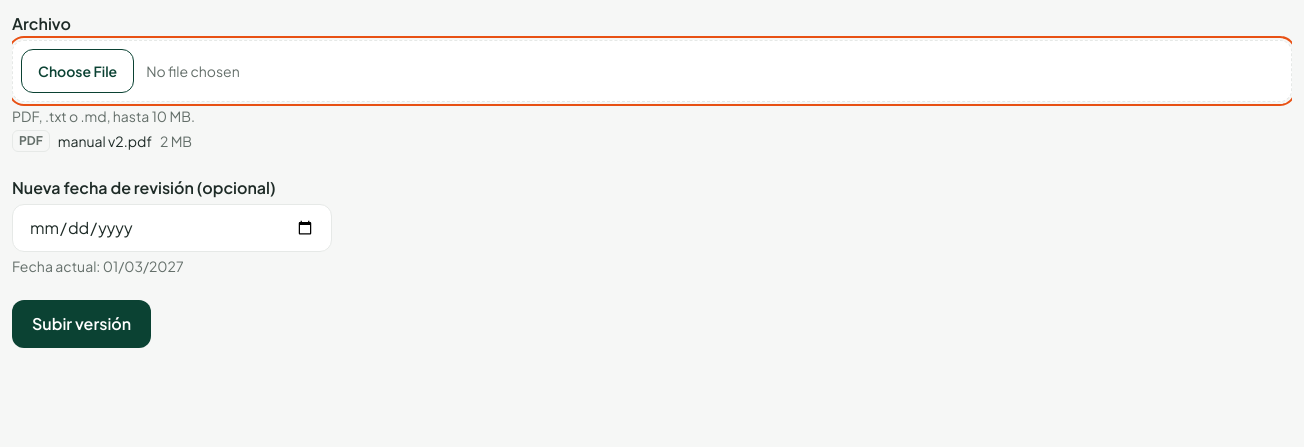
Test: NewVersionForm (spec 003, R6 a R9; plan 003, 6.3) › errores de la API: el archivo sigue elegido › E3: 409 IDENTICAL_TO_CURRENT
Earlier steps of the test are not shown.
Click the button "Subir versión": x=82, y=324 [12, 300, 151, 348]
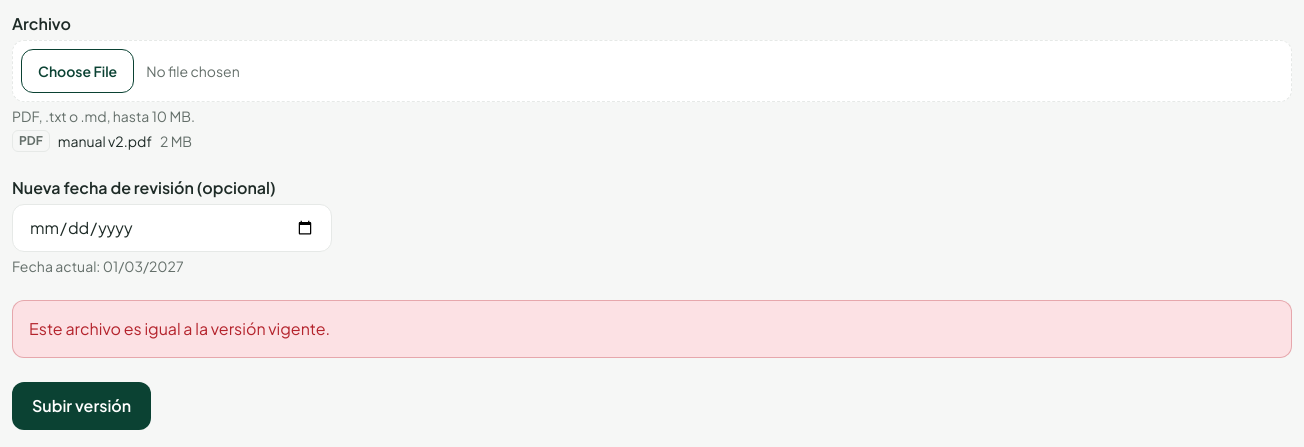
Expected: the text "manual v2.pdf" is shown, [58, 131, 152, 151]
Expected: the message reads "Este archivo es igual a la versión vigente.", [29, 318, 330, 339]
